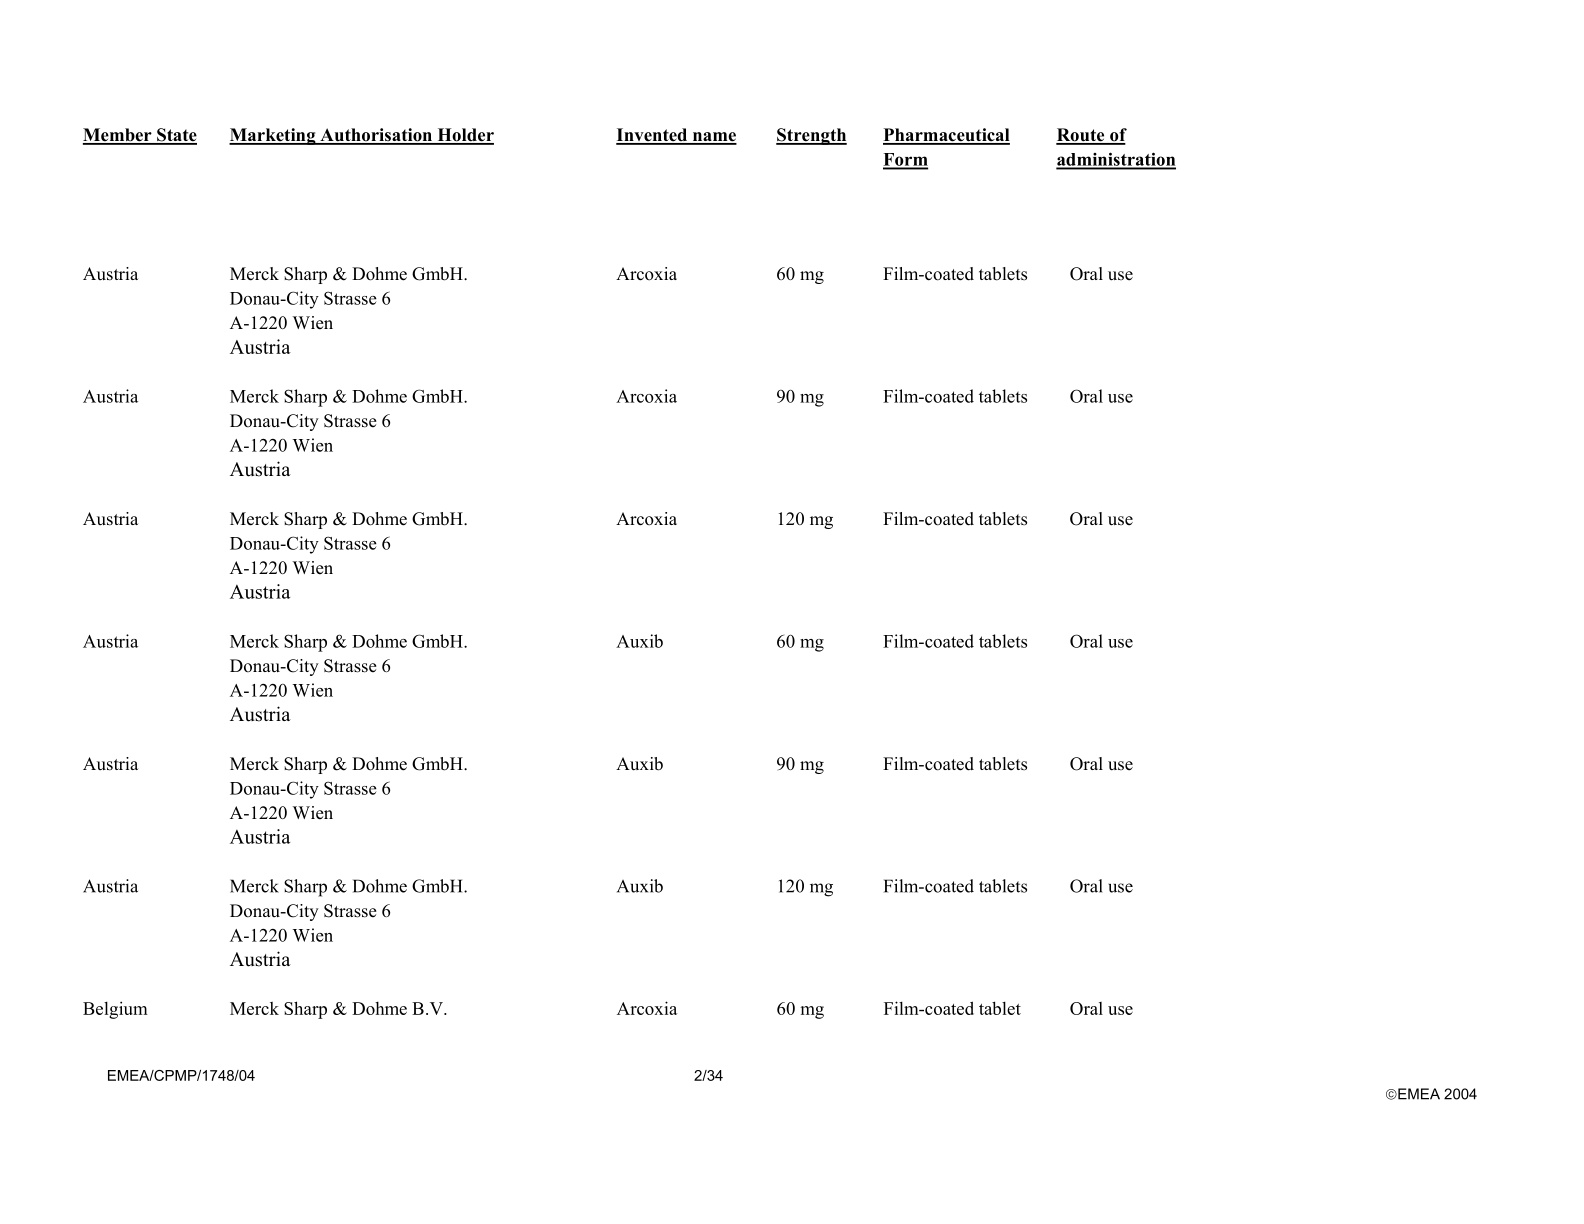nolines: (81, 123, 1176, 1022)
